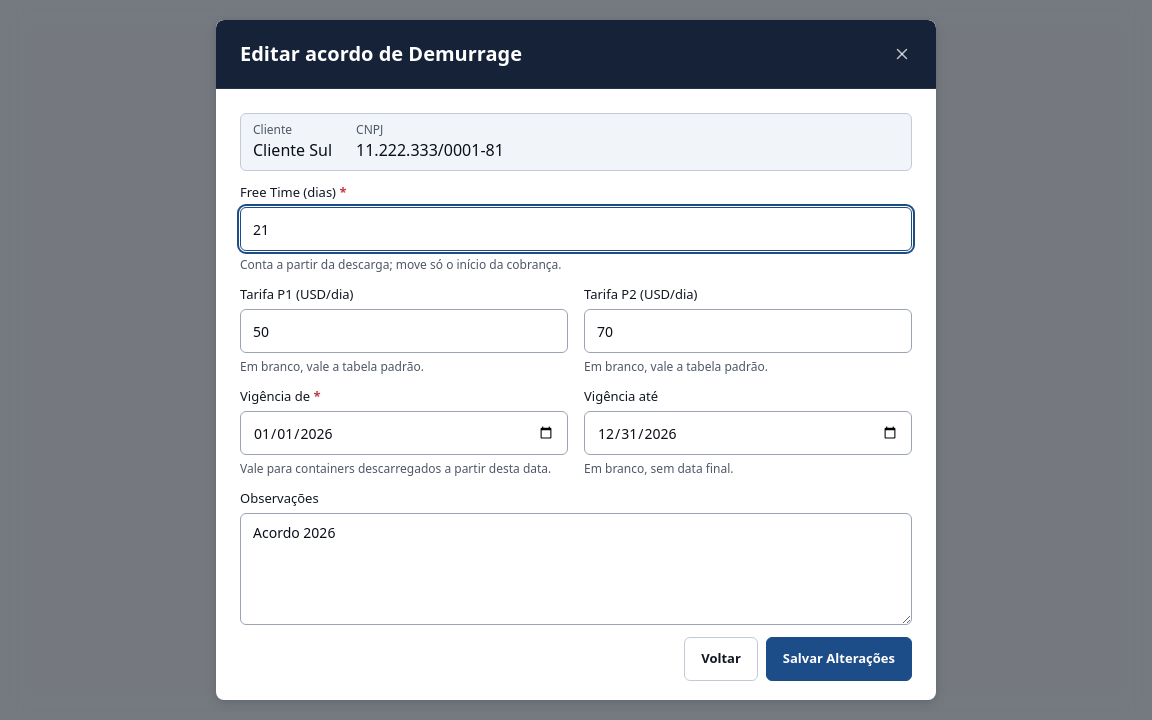
Test: Acordos de Demurrage — lista e formulário › free time acima de 365 dias é recusado junto do campo, como a tabela
Replace the text in the field labelled "Free Time (dias) *" with "400" at (576, 229), box [240,207,912,251]
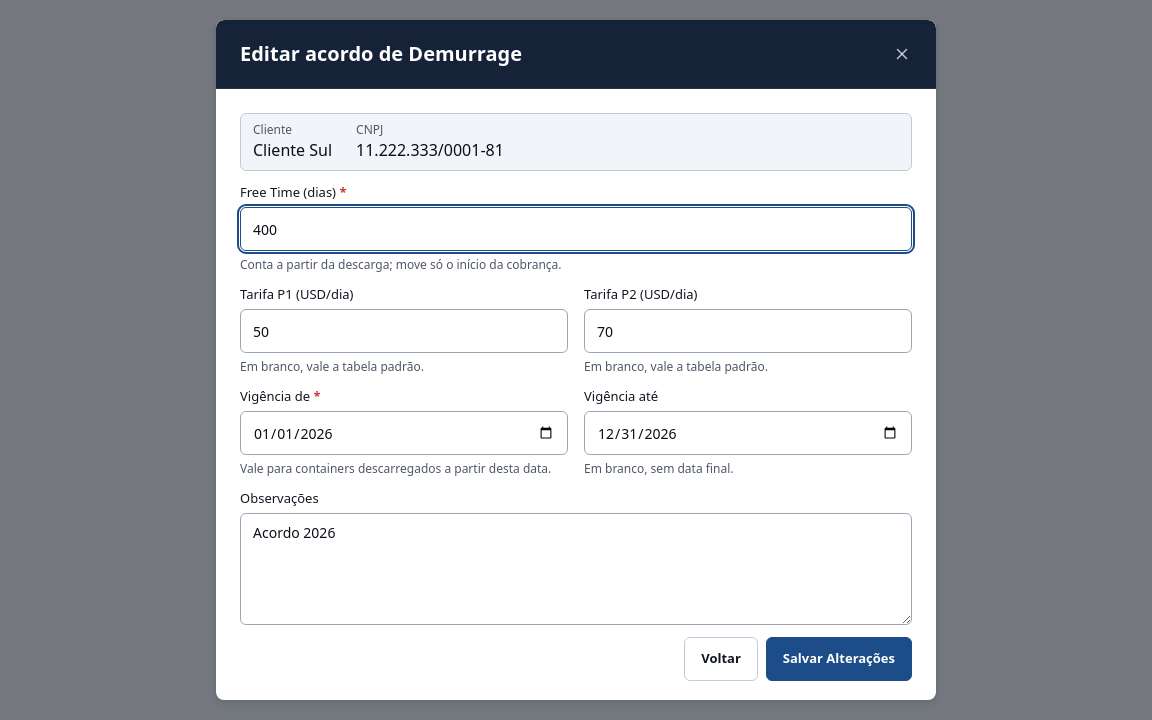
Click the button "Salvar Alterações" at (839, 659), box [766,637,912,681]
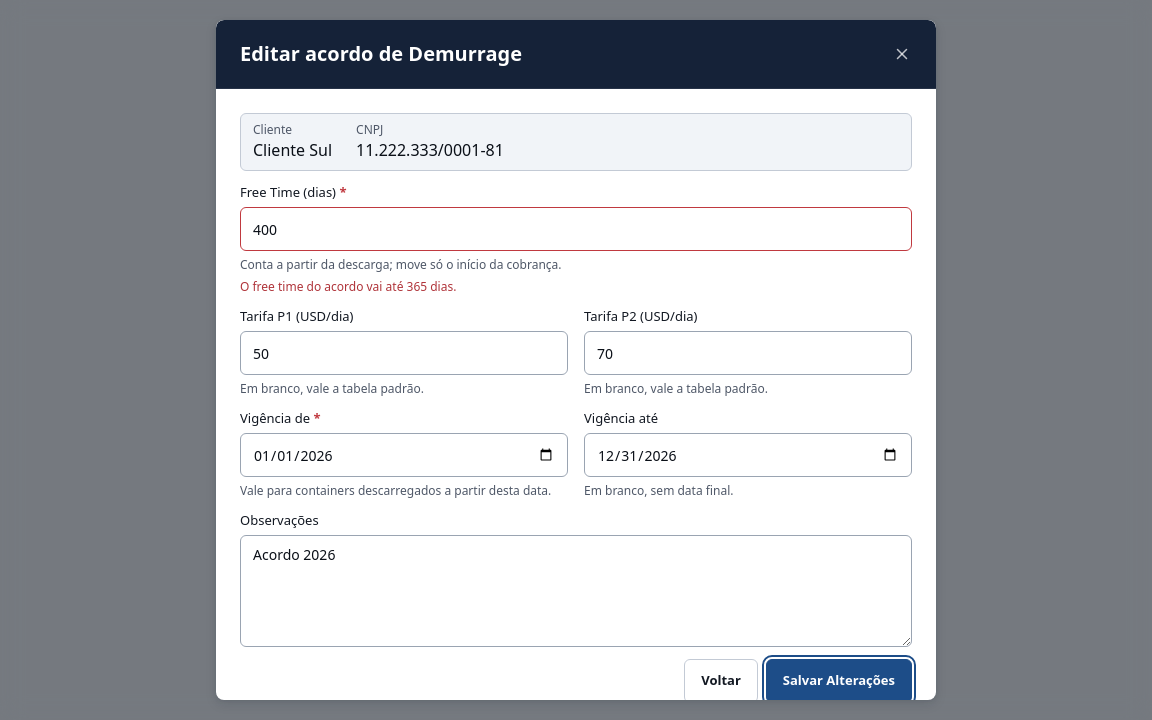
expect the message shows "vai até 365 dias": met, box [240,278,456,295]
